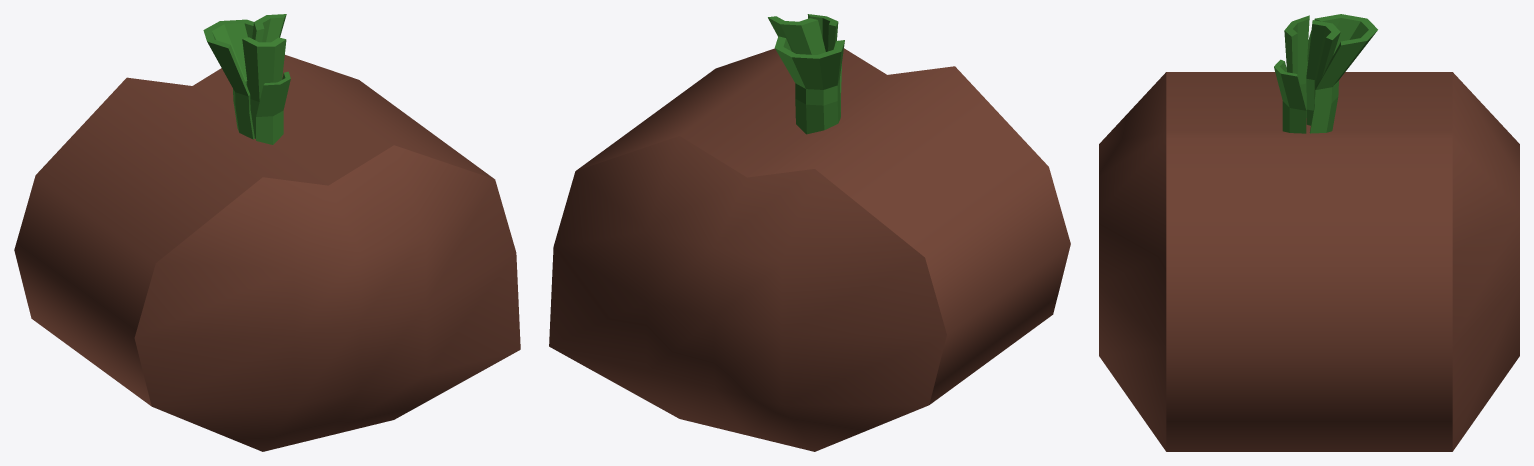
The model's file is tomato.fbx.
3 renders of one model, left to right at view 1: azimuth 30°, elevation 25°; view 2: azimuth 150°, elevation 25°; view 3: azimuth 270°, elevation 25°, orthographic. The views are drawn at different scales.
Parts seen in each view (by area): view 1: pCylinder5; view 2: pCylinder5; view 3: pCylinder5.
Boxes of the visible parts, x1,y1,x2,y2 form: pCylinder5: [14, 14, 520, 451]; pCylinder5: [549, 14, 1070, 451]; pCylinder5: [1099, 14, 1519, 451].
Bounding box in the file's own units: 1.44 × 1.29 × 1.32.
